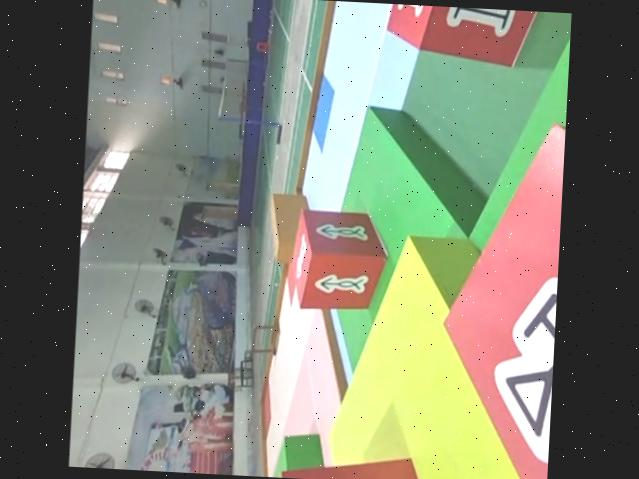R2 Real: (427, 102, 566, 479), (379, 3, 562, 70), (287, 206, 389, 314), (260, 446, 454, 479)
